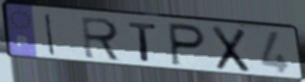4: (258, 29, 293, 77)
I: (43, 12, 57, 57)
P: (167, 21, 208, 69)
R: (79, 15, 124, 63)
T: (126, 20, 160, 63)
X: (210, 24, 252, 74)
